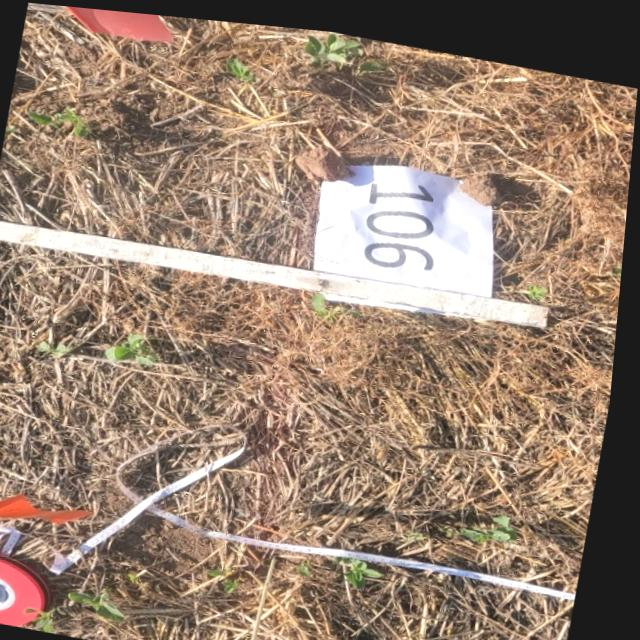soy_plant: (304, 25, 362, 61), (77, 587, 134, 620), (109, 328, 164, 362), (463, 503, 525, 533), (30, 107, 88, 133), (344, 549, 389, 580), (225, 52, 252, 78), (221, 564, 249, 586), (43, 339, 75, 355), (315, 287, 339, 308), (44, 611, 62, 630), (531, 276, 549, 290), (307, 554, 318, 568)
